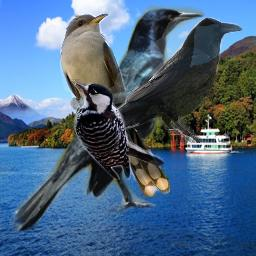Crow: (9, 5, 205, 235), (91, 17, 243, 143)
Cuckoo: (60, 13, 170, 197)
Woodpecker: (70, 79, 165, 180)
